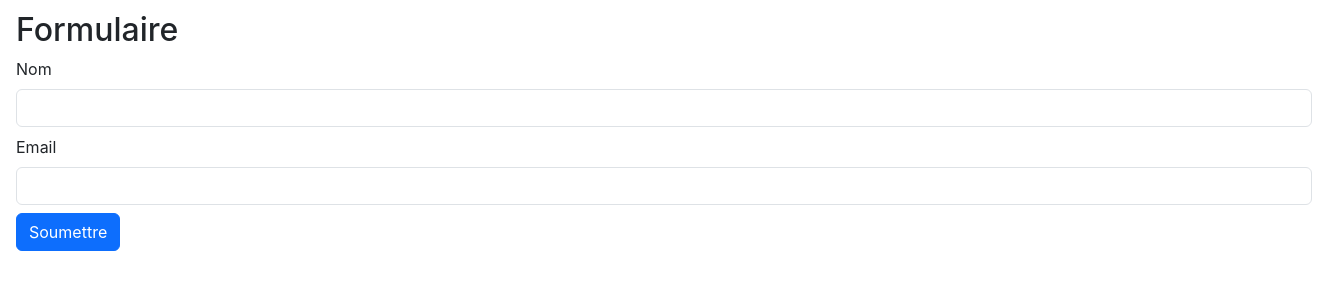
envoie l'utilisateur au backend avec axios.post
The image size is (1329, 306).
Type "Carol" into the field labelled "Nom". click: [664, 108]
box: [16,89,1312,127]
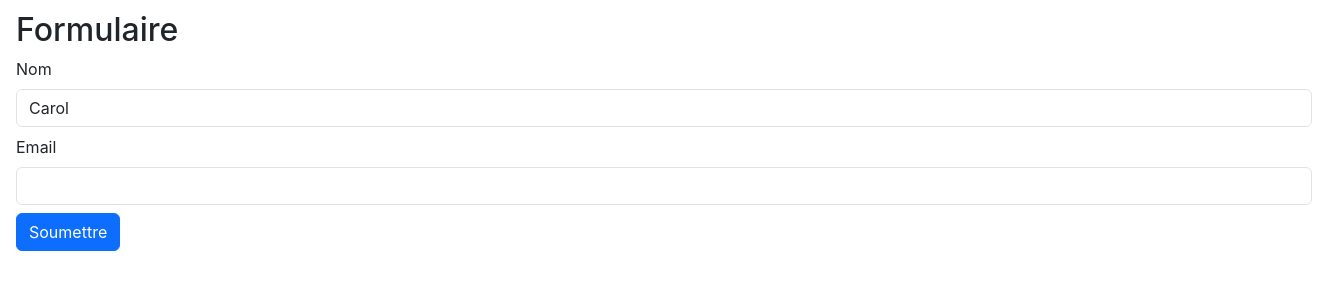
Type "carol@example.com" into the field labelled "Email". click: [664, 186]
box: [16,167,1312,205]
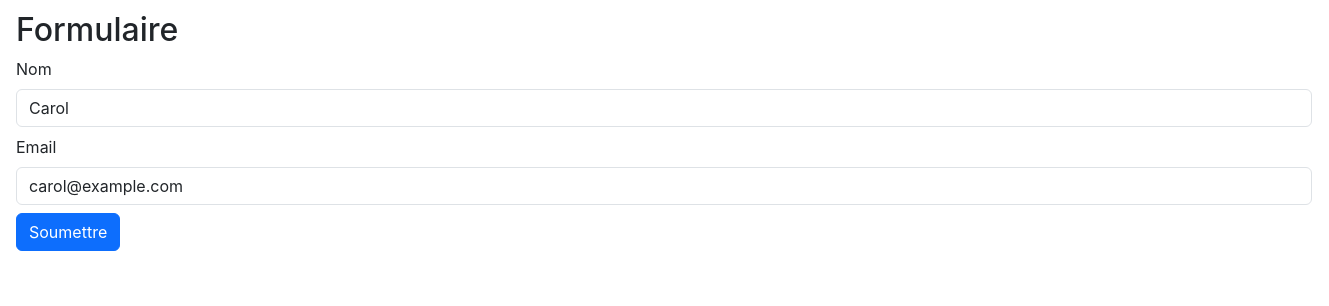
Click the button "Soumettre". click: [68, 232]
box: [16,213,120,251]
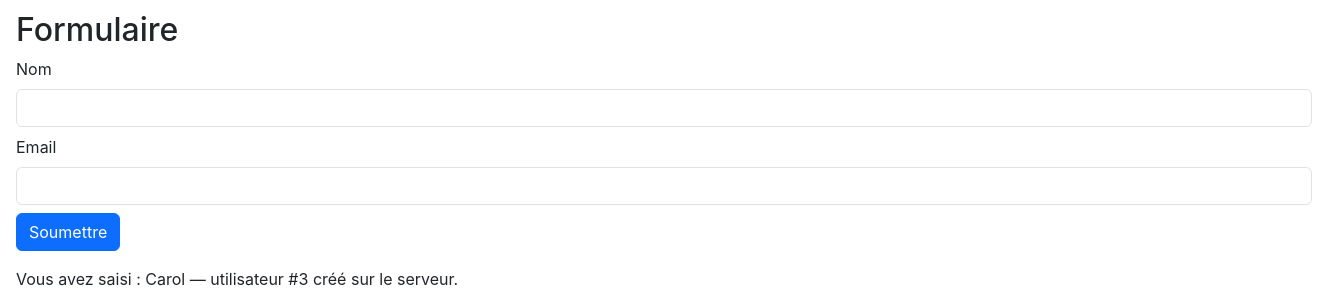
Expected: the text "utilisateur #3 créé" is shown, [16,269,458,289]
